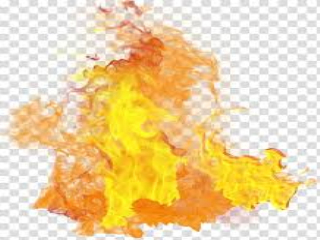fire: (58, 24, 299, 226)
